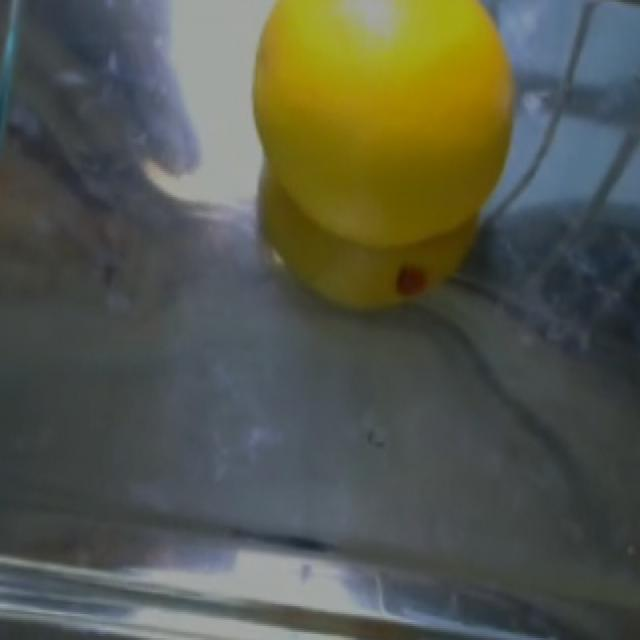Fruit: (297, 0, 536, 300)
